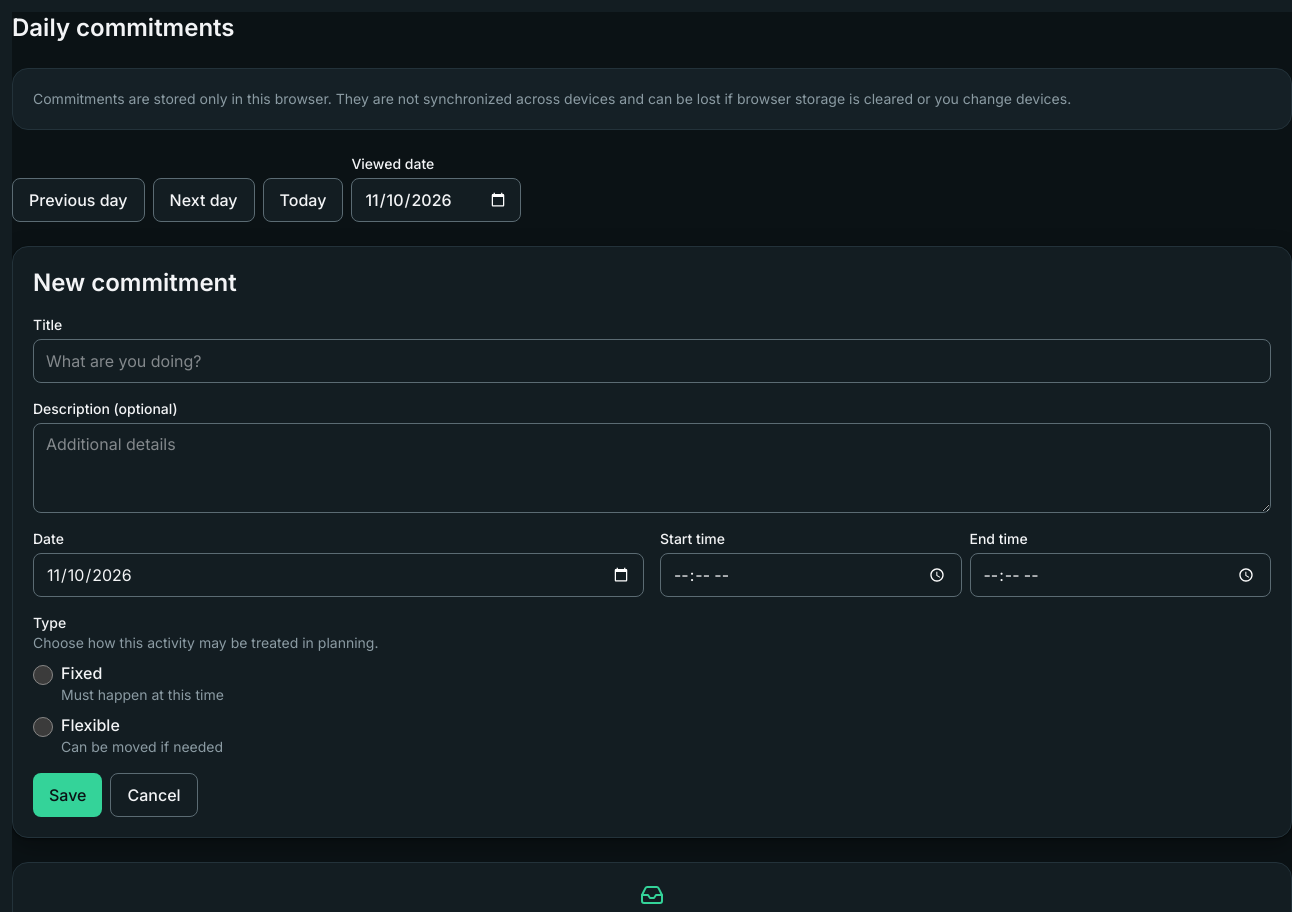
Test case: save failures › keeps the form open with entered values and no list entry on quota failure
In the field labelled "Title": (652, 361) [33,339,1271,383], type "Unsaved plan"
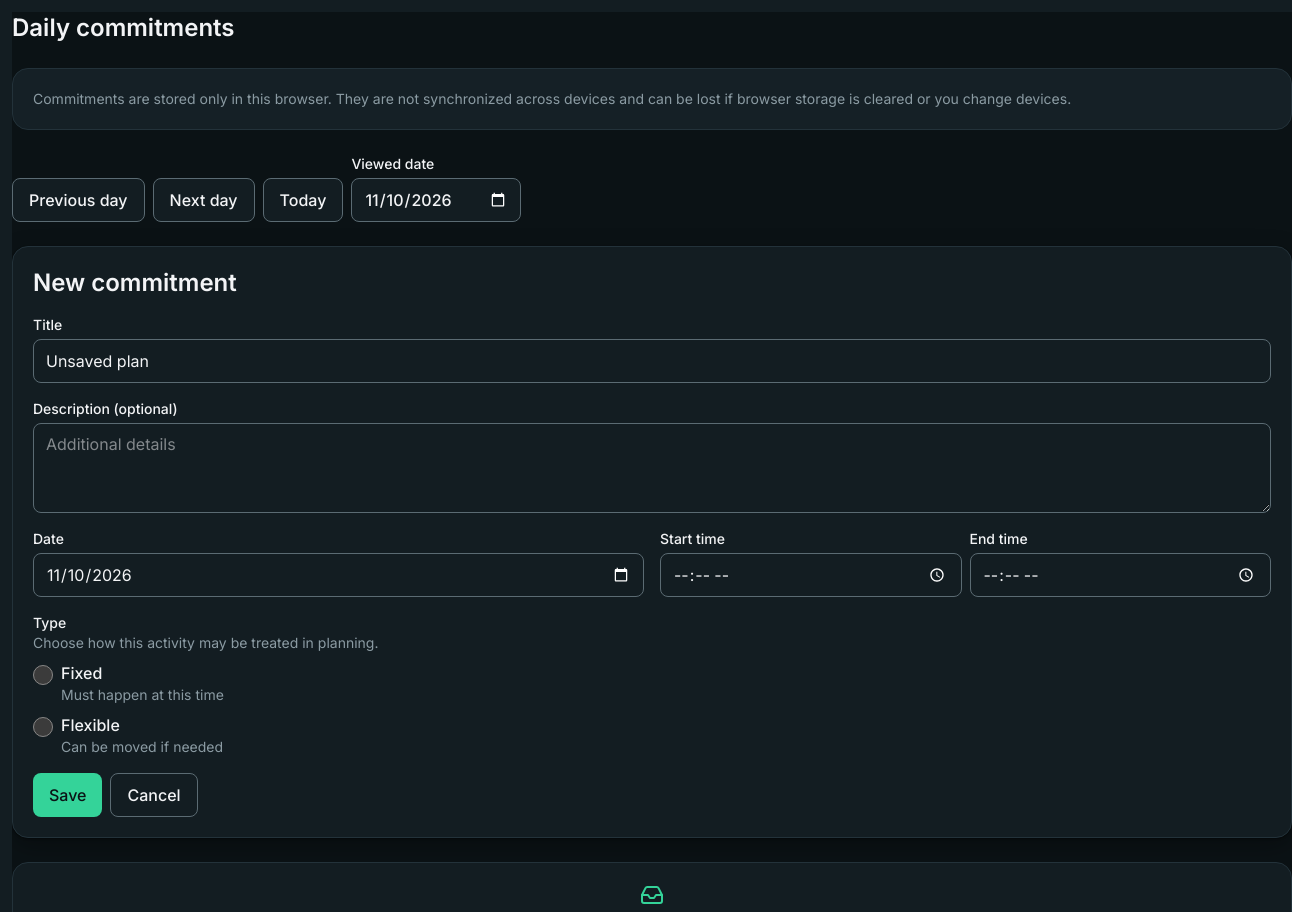
In the time field labelled "Start time": (811, 575) [660,553,962,597], type "09:00"
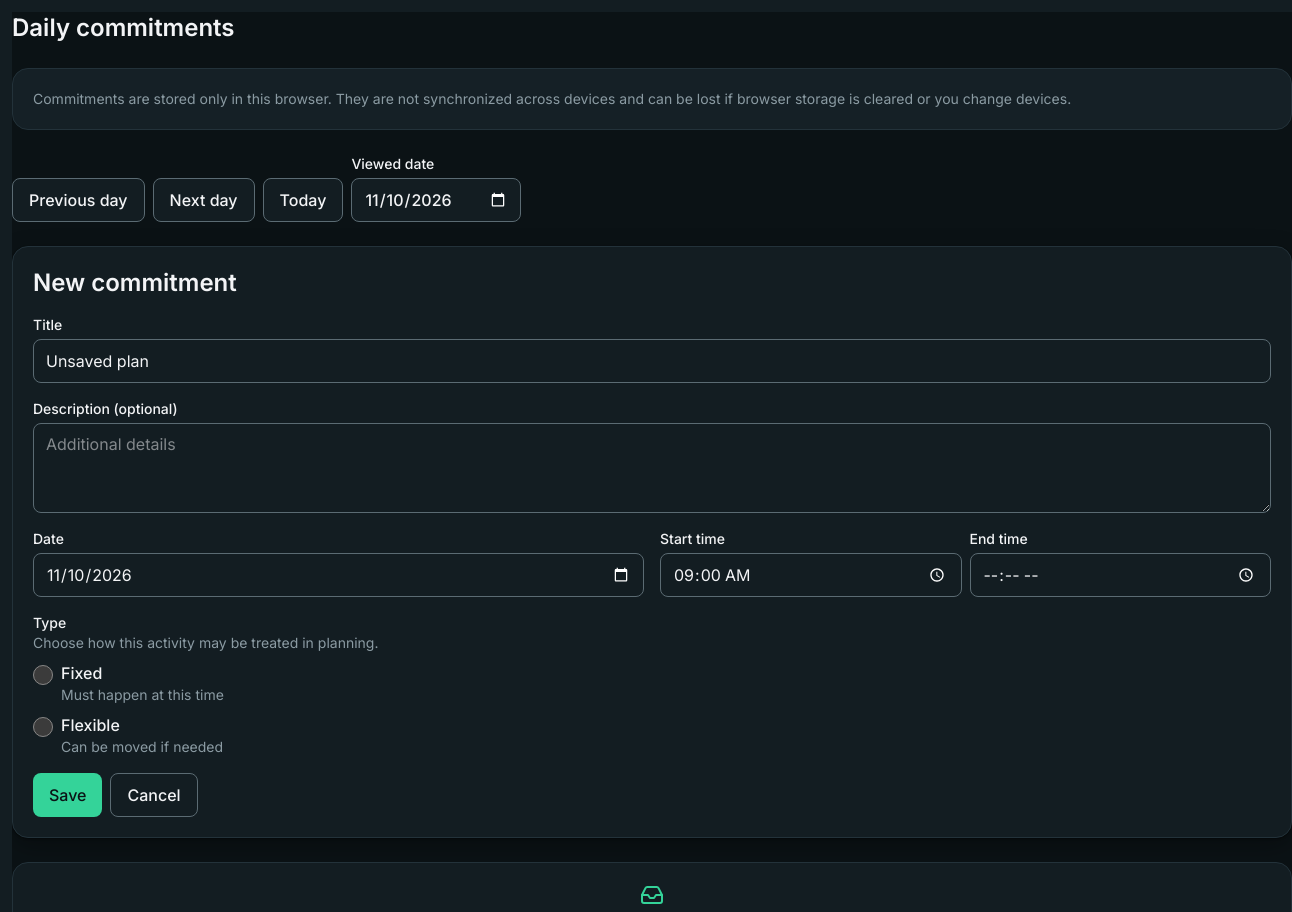
In the time field labelled "End time": (1120, 575) [970,553,1271,597], type "10:00"
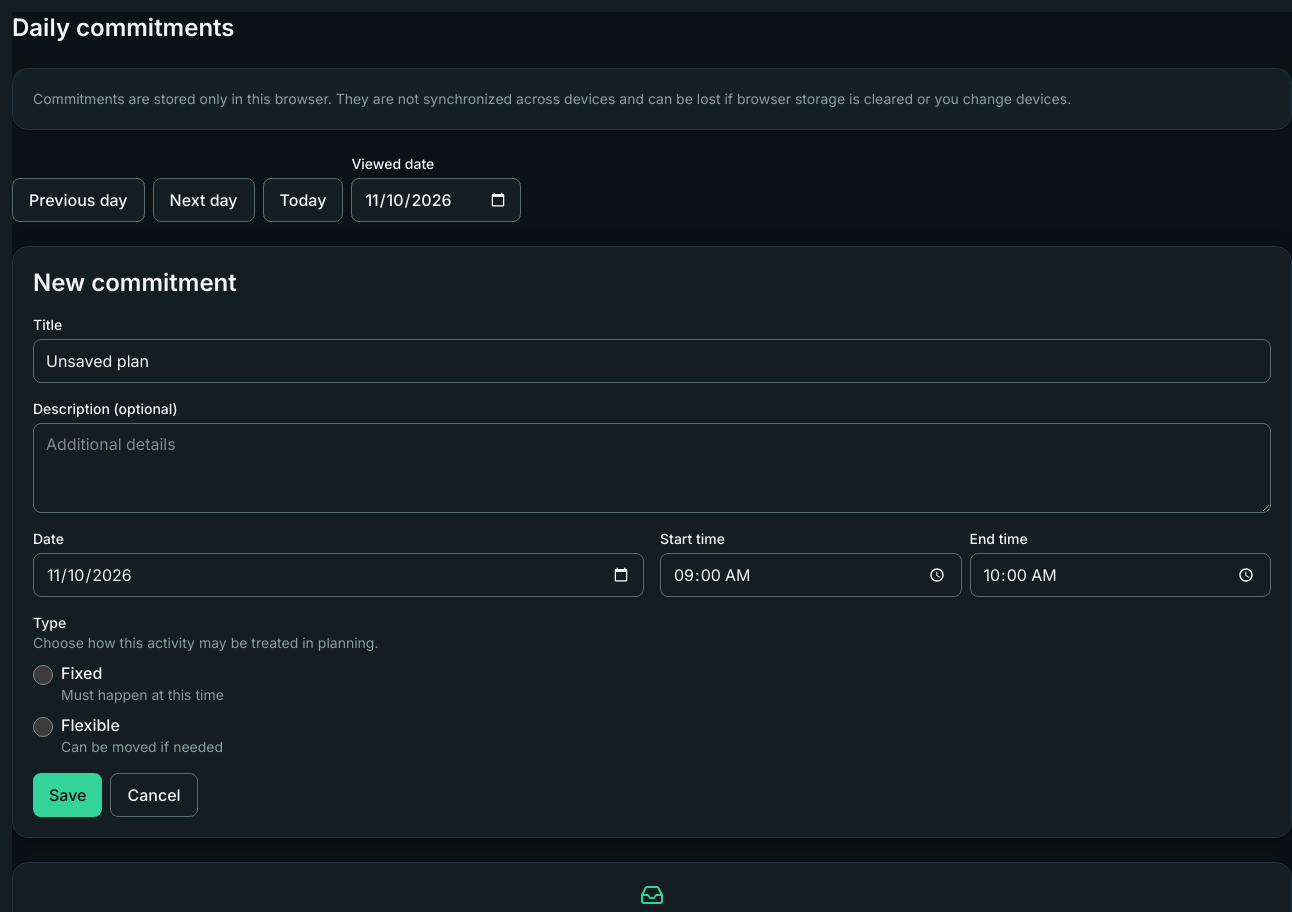
Click the radio button labelled "Fixed Must happen at this time": (43, 675) [33,665,53,685]
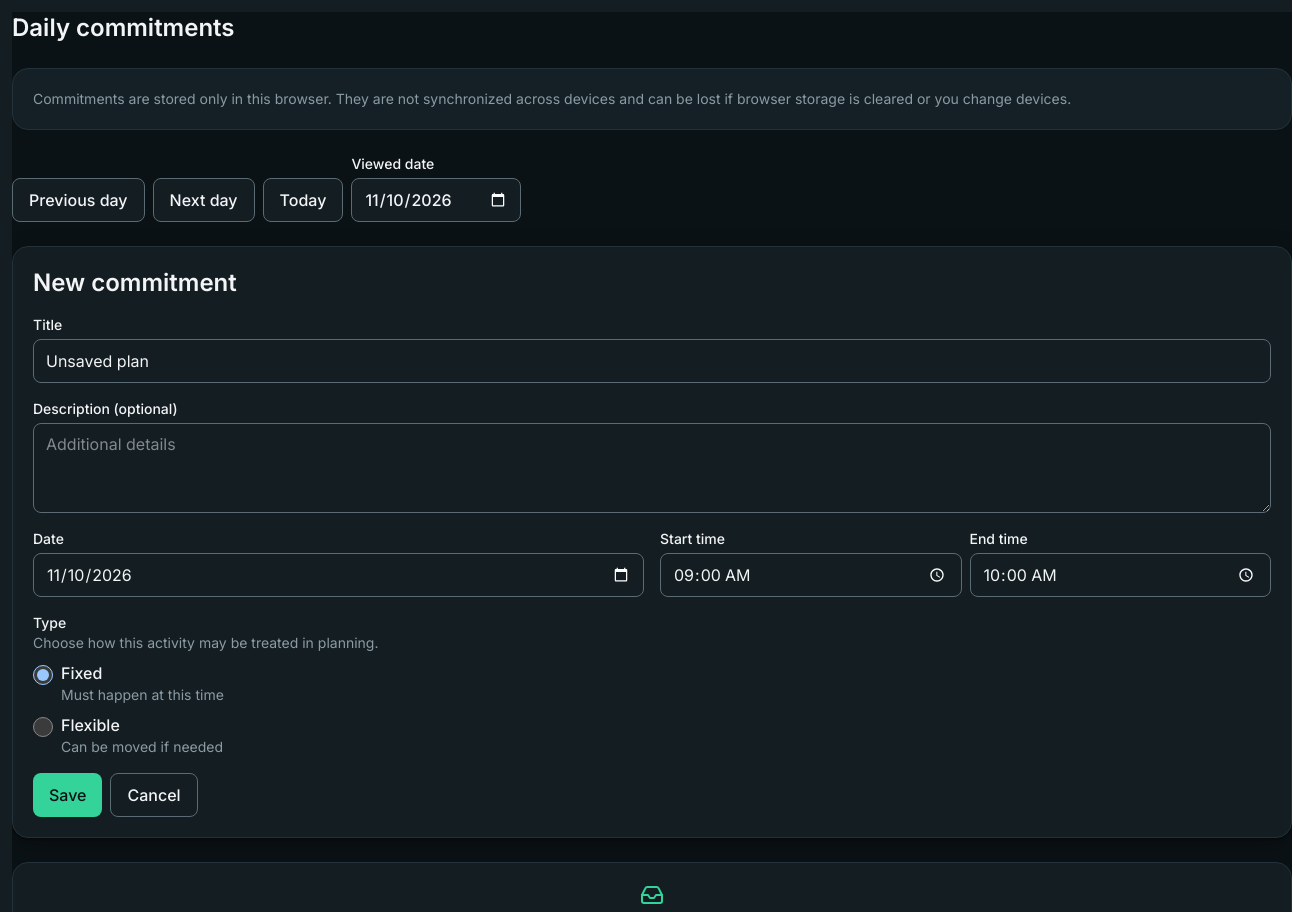
Click the button "Save": (68, 795) [33,773,102,817]
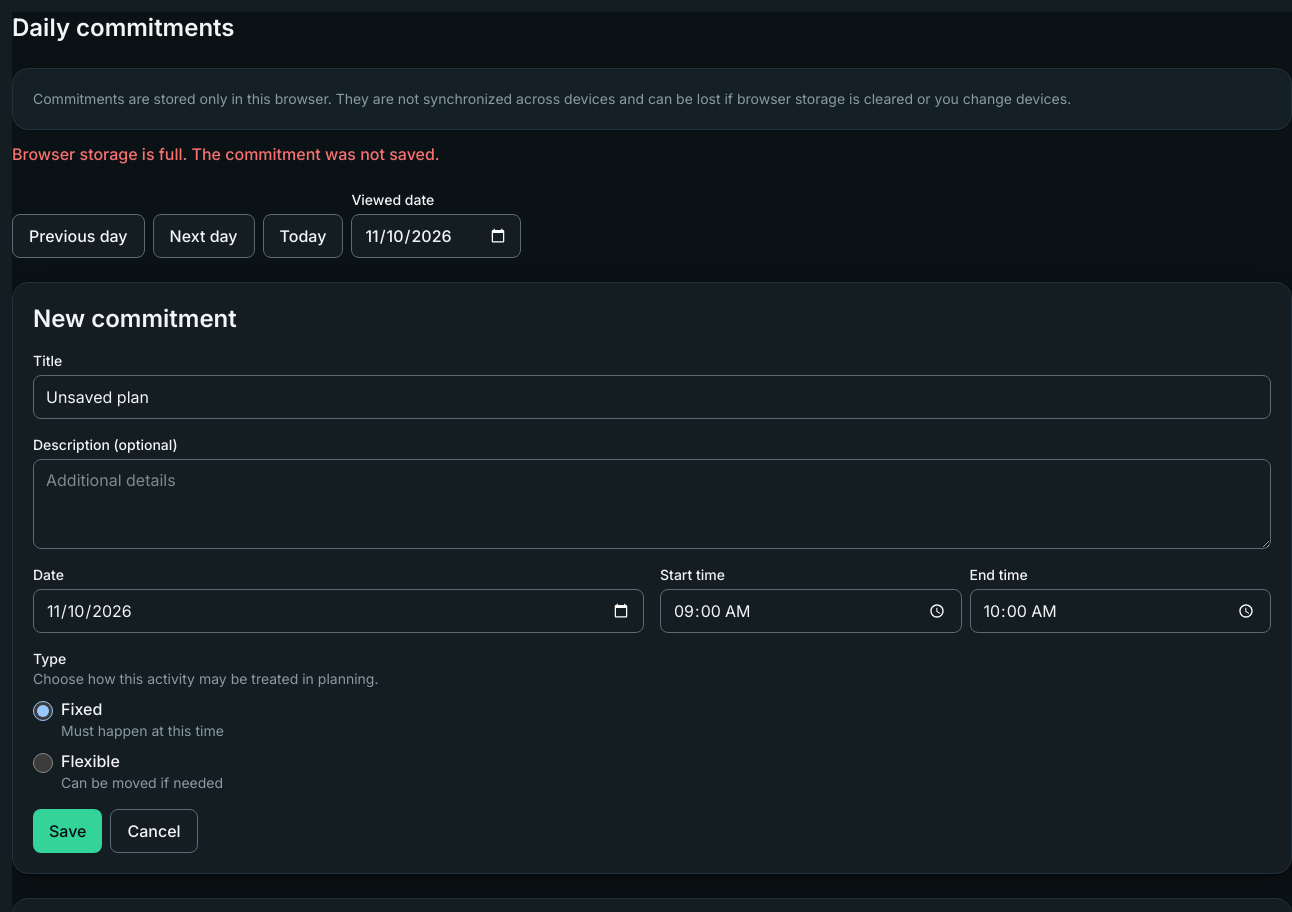
Expected: the text "Commitment saved" is not shown
Now the text "Browser storage is full. The commitment was not saved." is shown, box [12,144,440,164]
Click the button "Save": (68, 831) [33,809,102,853]
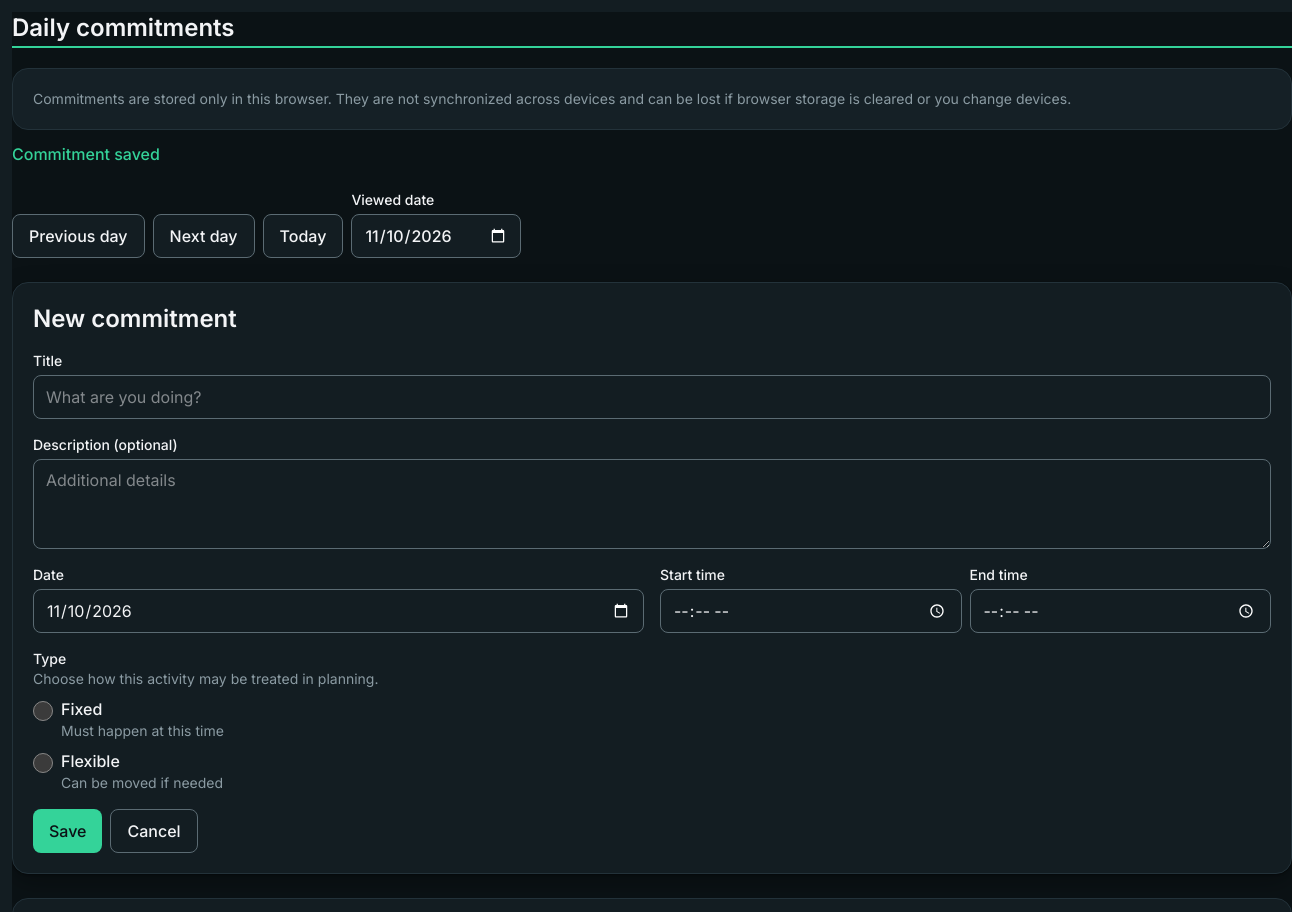
Now the text "Commitment saved" is shown, box [12,144,160,164]
